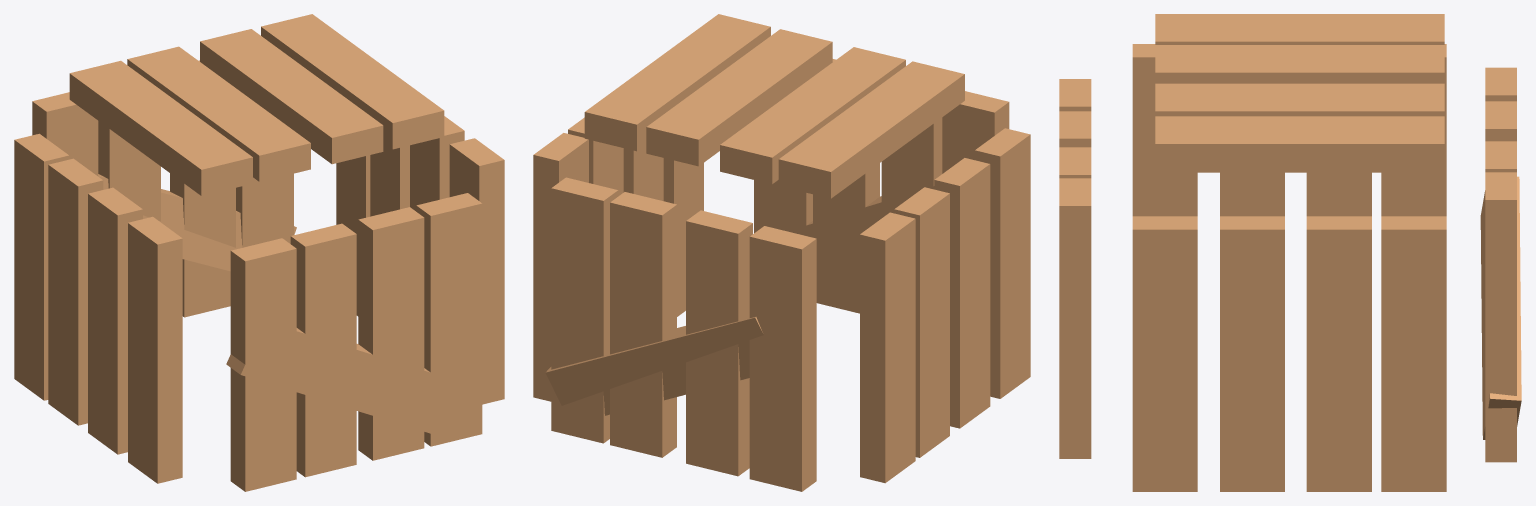
The model's file is broken Shit_box.fbx.
3 views of the same model, side by side, from view 1: azimuth 30°, elevation 25°; view 2: azimuth 150°, elevation 25°; view 3: azimuth 270°, elevation 25° (orthographic). The views are drawn at different scales.
Visible parts, largest first — view 1: Cube.004, Cube.001, Cube.003, Cube.002, Cube.017, Cube.005, Cube.007, Cube.015, Cube.016, Cube.008, Cube.014, Cube.006 (+10 smaller); view 2: Cube.012, Cube.010, Cube.011, Cube.014, Cube.009, Cube.005, Cube.007, Cube.016, Cube.017, Cube.008, Cube.015, Cube.006 (+10 smaller); view 3: Cube.022, Cube.021, Cube.019, Cube.020, Cube.008, Cube.006, Cube.007, Cube.002, Cube.005, Cube.009, Cube.017, Cube.014 (+9 smaller).
Part boxes in pixels (box(x1,y1,x2,y2)): Cube.004: box(230, 238, 296, 491); Cube.001: box(358, 207, 424, 460); Cube.003: box(290, 223, 356, 477); Cube.002: box(416, 193, 482, 446); Cube.017: box(128, 216, 182, 483); Cube.005: box(69, 60, 252, 195); Cube.007: box(200, 29, 383, 164); Cube.015: box(48, 158, 103, 425); Cube.016: box(88, 187, 142, 454); Cube.008: box(261, 14, 444, 149); Cube.014: box(14, 133, 69, 400); Cube.006: box(127, 46, 310, 181); Cube.012: box(749, 226, 816, 491); Cube.010: box(610, 192, 676, 457); Cube.011: box(686, 210, 752, 476); Cube.014: box(860, 212, 915, 483); Cube.009: box(551, 177, 618, 443); Cube.005: box(778, 61, 964, 198); Cube.007: box(646, 29, 832, 166); Cube.016: box(934, 158, 990, 428); Cube.017: box(975, 128, 1030, 398); Cube.008: box(584, 14, 770, 151); Cube.015: box(894, 187, 949, 457); Cube.006: box(720, 47, 905, 184); Cube.022: box(1381, 216, 1446, 491); Cube.021: box(1306, 216, 1371, 491); Cube.019: box(1132, 216, 1197, 491); Cube.020: box(1220, 216, 1284, 491); Cube.008: box(1155, 116, 1444, 172); Cube.006: box(1155, 45, 1444, 83); Cube.007: box(1155, 83, 1444, 116); Cube.002: box(1059, 178, 1091, 458); Cube.005: box(1155, 14, 1444, 44); Cube.009: box(1485, 172, 1516, 462); Cube.017: box(1132, 44, 1197, 216); Cube.014: box(1381, 44, 1446, 216).
Size of the model in its own units: 196 by 158 by 207.
